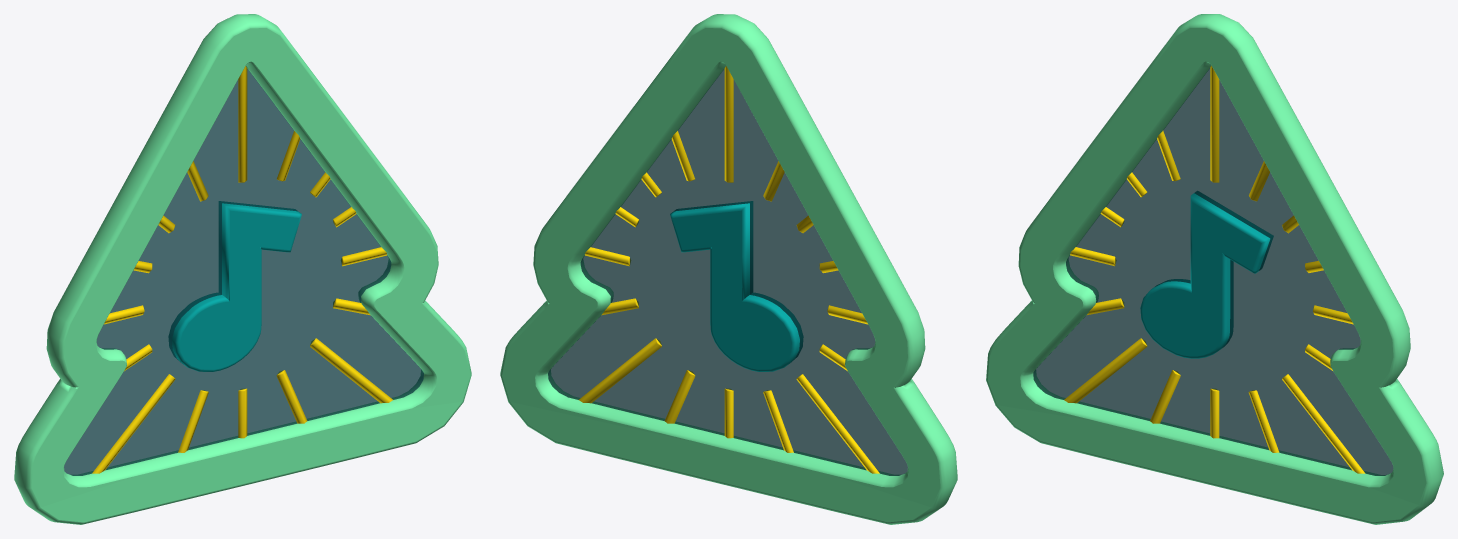
The model's file is ForestBadgeRem.glb.
The picture shows the model from 3 angles, left to right: view 1: azimuth 30°, elevation 25°; view 2: azimuth 150°, elevation 25°; view 3: azimuth 330°, elevation 25°; orthographic projection.
Size of the model in its own units: 5.02 by 4.97 by 0.3018.
